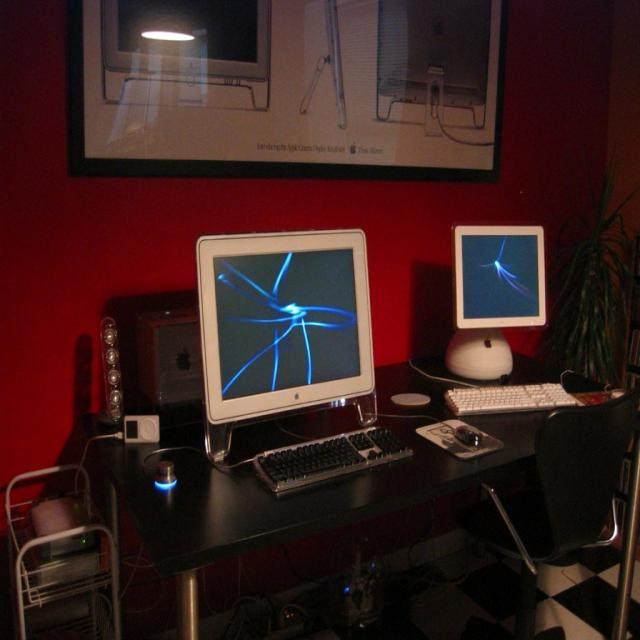chair: (457, 387, 640, 639)
desk: (86, 356, 640, 639)
keyboard: (254, 424, 414, 498), (444, 382, 576, 417)
mouse: (453, 425, 483, 448)
tv: (196, 231, 376, 427), (451, 224, 547, 334)
